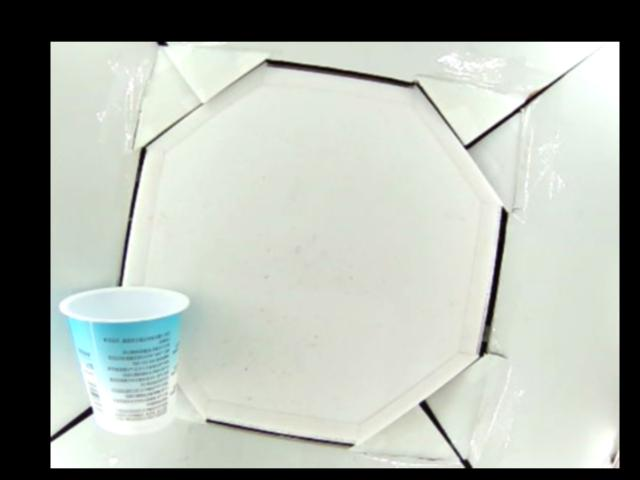Cup: (58, 284, 190, 434)
